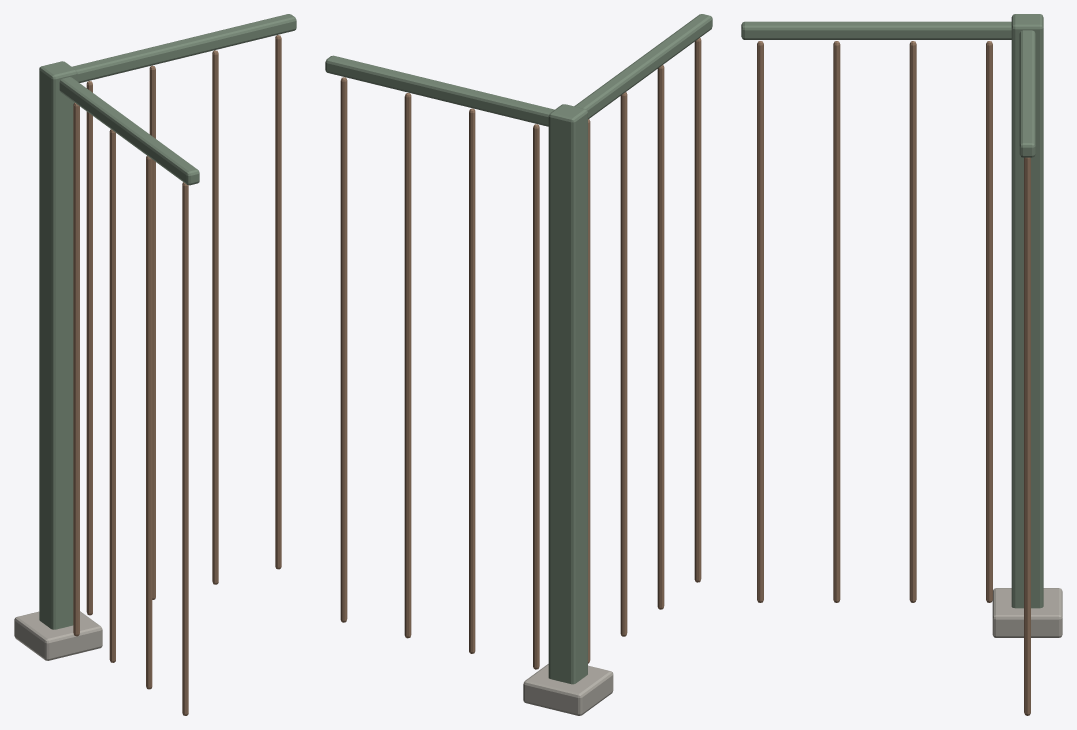
Rendered from fence_corner.fbx.
3 views of the same model, side by side, from view 1: azimuth 30°, elevation 25°; view 2: azimuth 150°, elevation 25°; view 3: azimuth 270°, elevation 25° (orthographic). The views are drawn at different scales.
Visible parts, largest first — view 1: fence_corner; view 2: fence_corner; view 3: fence_corner.
Boxes of the visible parts, box(x1,y1,x2,y2) form: fence_corner: box(14, 14, 296, 715); fence_corner: box(325, 14, 712, 715); fence_corner: box(741, 14, 1062, 715).
Size of the model in its own units: 1.01 by 2.1 by 1.01.
